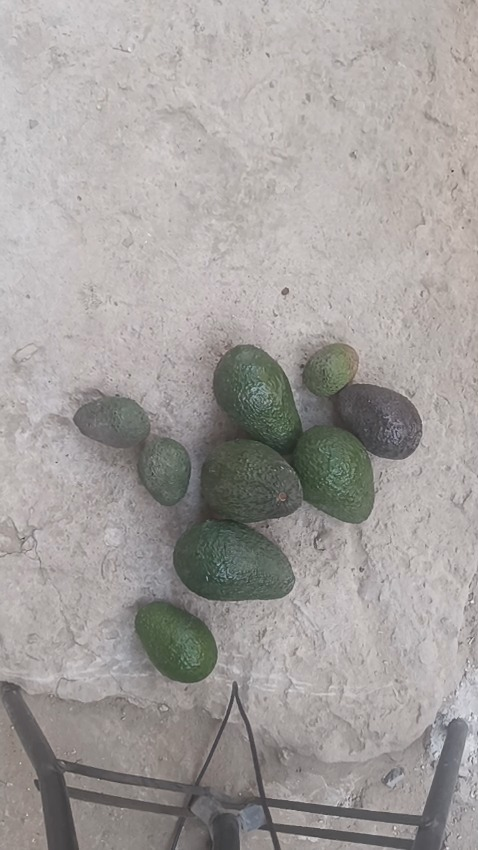Primera: (212, 343, 305, 452), (173, 518, 292, 602), (199, 439, 304, 523), (290, 424, 374, 524)
Segunda: (134, 600, 216, 683), (334, 382, 422, 459)
Tercera: (73, 395, 149, 448), (137, 435, 191, 507), (301, 343, 358, 399)
